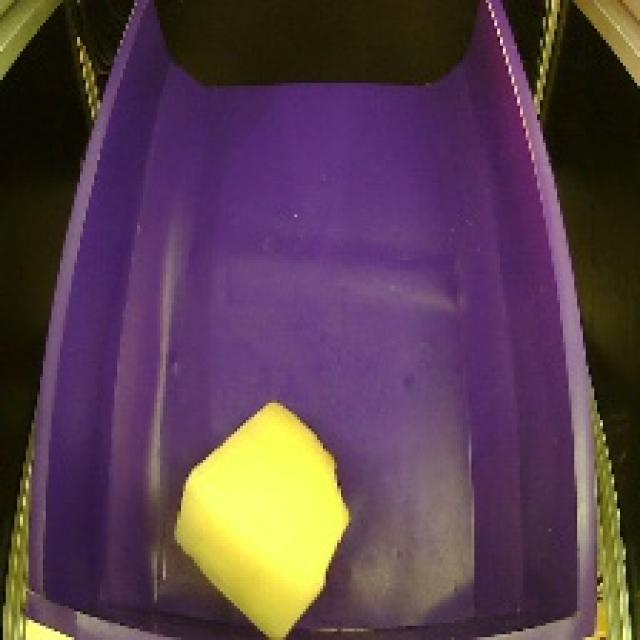potato: (166, 391, 357, 640)
